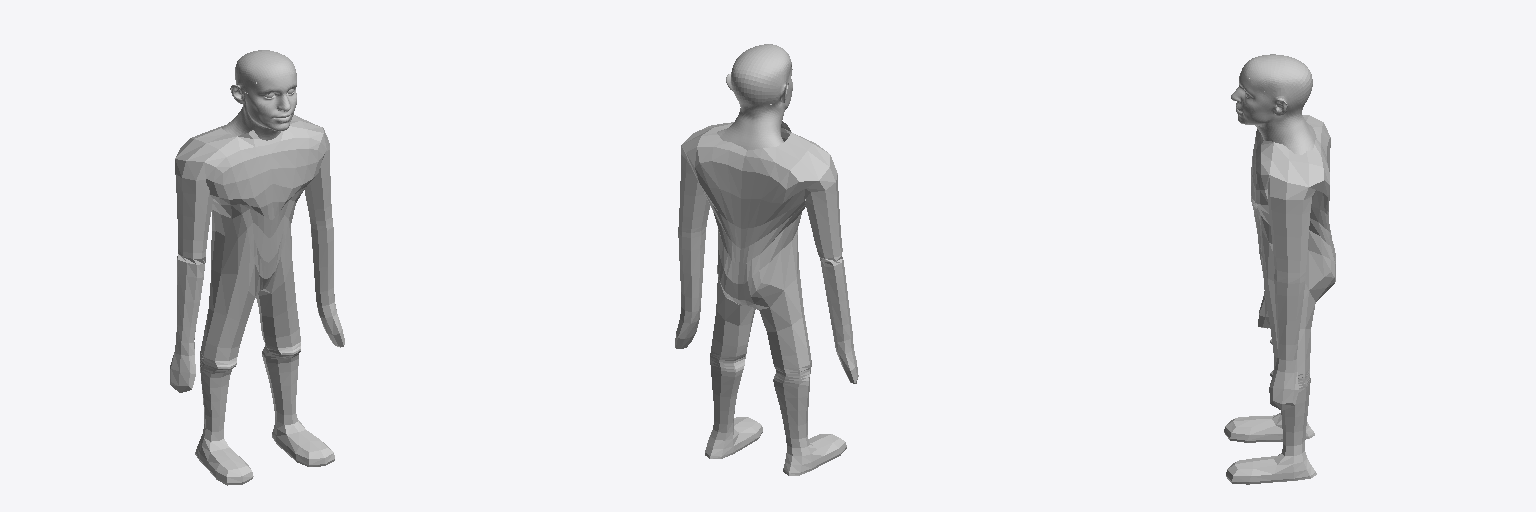
Rendered from PersonaASi.obj.
The picture shows the model from 3 angles: view 1: azimuth 30°, elevation 25°; view 2: azimuth 150°, elevation 25°; view 3: azimuth 270°, elevation 25°; orthographic projection.
Parts seen in each view (by area): view 1: Cube, FBHead_FBHead_mesh; view 2: Cube, FBHead_FBHead_mesh; view 3: Cube, FBHead_FBHead_mesh.
Part boxes in pixels (left/top/right/bottom): Cube: left=170, top=115, right=344, bottom=485; FBHead_FBHead_mesh: left=222, top=50, right=296, bottom=140; Cube: left=675, top=121, right=858, bottom=475; FBHead_FBHead_mesh: left=717, top=44, right=792, bottom=150; Cube: left=1224, top=115, right=1335, bottom=484; FBHead_FBHead_mesh: left=1231, top=54, right=1316, bottom=154.
Bounding box in the file's own units: 19.05 × 41.93 × 10.59.